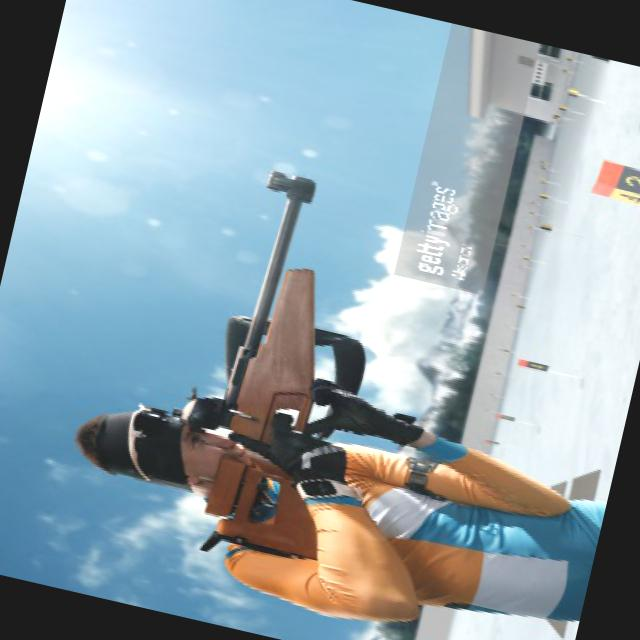long weapon: (170, 152, 415, 574)
